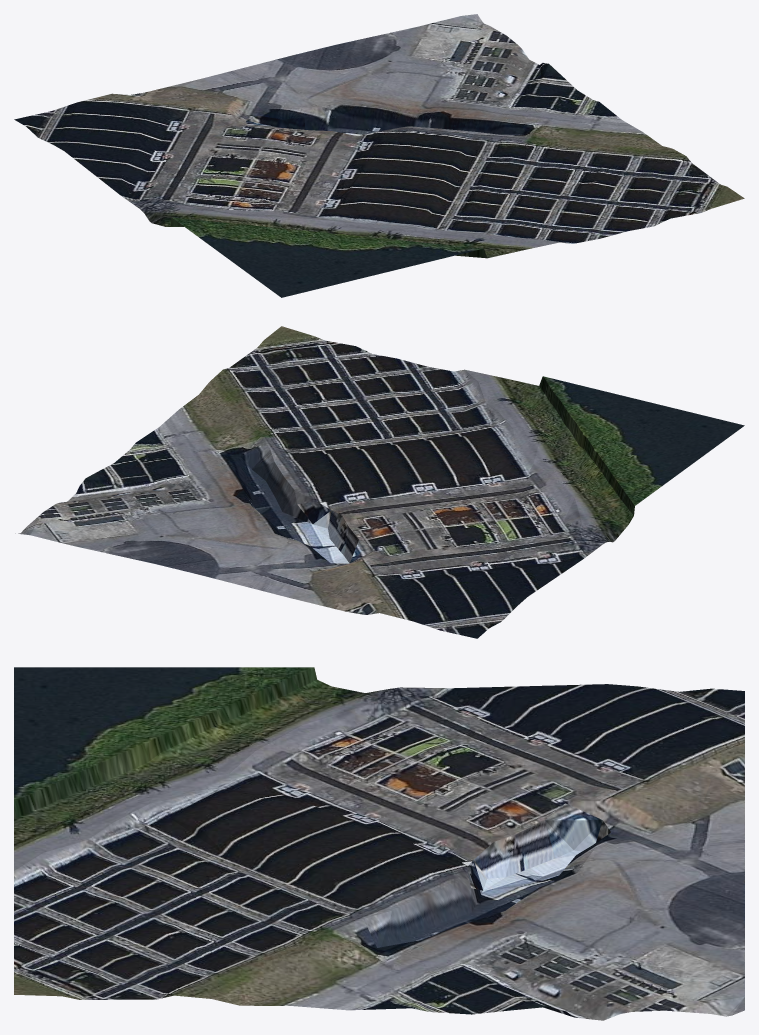
The model's file is map_15_8179_13776.dae.
3 renders of one model, top to bottom at view 1: azimuth 30°, elevation 25°; view 2: azimuth 150°, elevation 25°; view 3: azimuth 270°, elevation 25°, orthographic. The views are drawn at different scales.
Parts seen in each view (by area): view 1: Ter0; view 2: Ter0; view 3: Ter0.
Boxes of the visible parts, left/top/right/bottom form: Ter0: left=14, top=14, right=744, bottom=297; Ter0: left=15, top=326, right=744, bottom=638; Ter0: left=14, top=667, right=744, bottom=1020.
Bounding box in the file's own units: 63.87 × 63.88 × 6.31.
3 materials, 3 textured.
